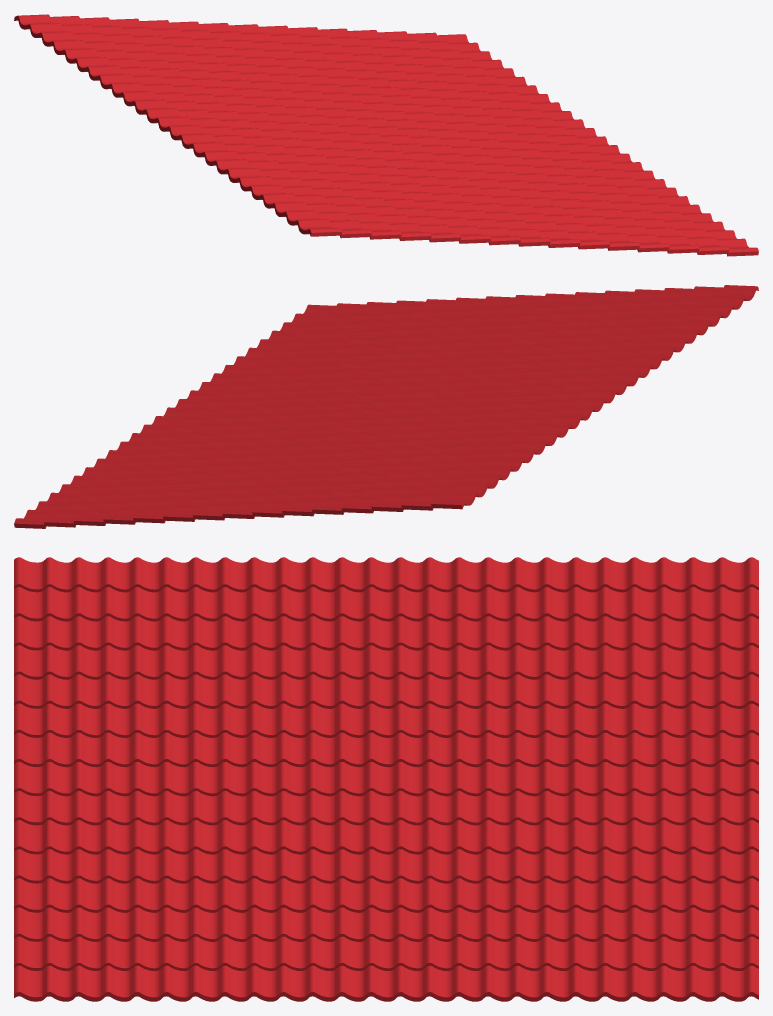
File: monterrey1.glb
The picture shows the model from 3 angles, top to bottom: view 1: azimuth 30°, elevation 25°; view 2: azimuth 150°, elevation 25°; view 3: azimuth 270°, elevation 25°; orthographic projection. The views are drawn at different scales.
Parts seen in each view (by area): view 1: MONTERREY EV1; view 2: MONTERREY EV1; view 3: MONTERREY EV1.
Boxes of the visible parts, x1,y1,x2,y2 form: MONTERREY EV1: (14,14,758,256); MONTERREY EV1: (14,285,758,528); MONTERREY EV1: (14,557,758,1001).
Bounding box in the file's own units: 13.64 × 3.95 × 15.6.
